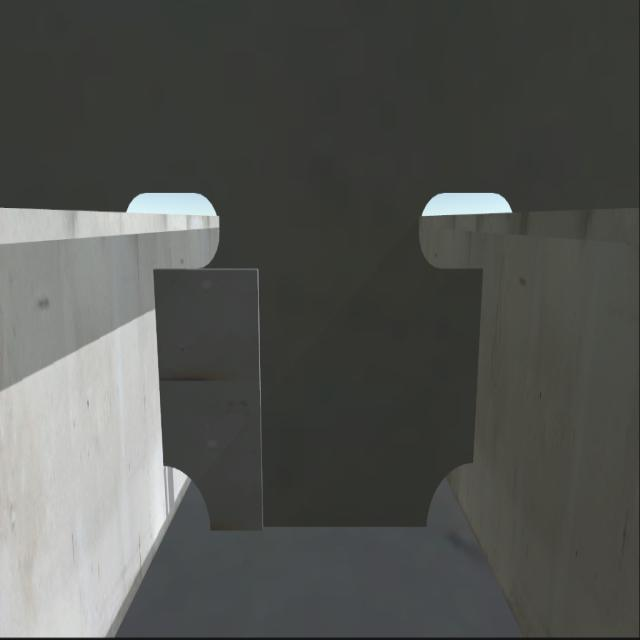fillet_hole: (426, 456, 472, 527), (166, 463, 211, 529)
fillet_yong_jeop_jang: (203, 512, 429, 548)
longi_yong_jeop_jang: (465, 257, 490, 467), (156, 261, 170, 467)
plate_CP01: (156, 266, 263, 532)
